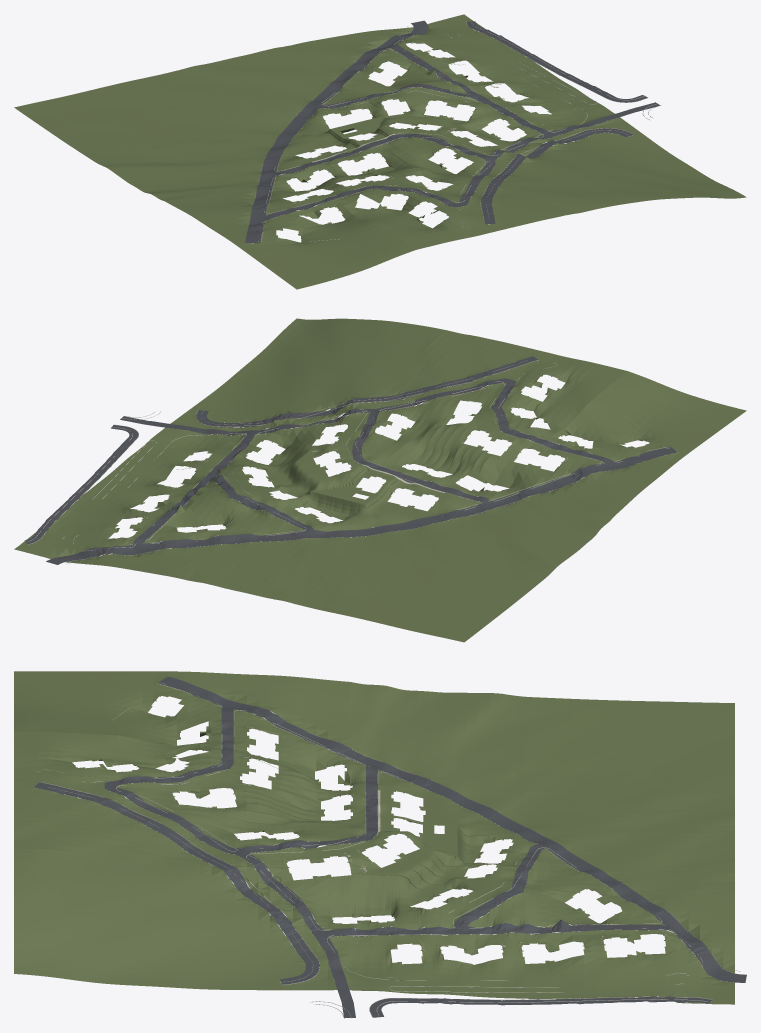
Rendered from context-ground.glb.
The picture shows the model from 3 angles, top to bottom: view 1: azimuth 30°, elevation 25°; view 2: azimuth 150°, elevation 25°; view 3: azimuth 270°, elevation 25°; orthographic projection. The views are drawn at different scales.
Parts seen in each view (by area): view 1: Terrain — CAD TK and road levels with terraced pads, CAD roads — corrected block loops and arterials, CAD curb edges; view 2: Terrain — CAD TK and road levels with terraced pads, CAD roads — corrected block loops and arterials, CAD curb edges; view 3: Terrain — CAD TK and road levels with terraced pads, CAD roads — corrected block loops and arterials, CAD curb edges.
Boxes of the visible parts, bbox=[...] form: Terrain — CAD TK and road levels with terraced pads: bbox=[14, 14, 746, 289]; CAD roads — corrected block loops and arterials: bbox=[245, 20, 660, 243]; CAD curb edges: bbox=[245, 21, 661, 242]; Terrain — CAD TK and road levels with terraced pads: bbox=[14, 318, 746, 642]; CAD roads — corrected block loops and arterials: bbox=[24, 356, 676, 564]; CAD curb edges: bbox=[28, 360, 677, 564]; Terrain — CAD TK and road levels with terraced pads: bbox=[14, 671, 734, 1004]; CAD roads — corrected block loops and arterials: bbox=[34, 676, 746, 1017]; CAD curb edges: bbox=[37, 676, 743, 1018].
Bounding box in the file's own units: 313 × 32.81 × 315.
4 materials, 4 textured.
